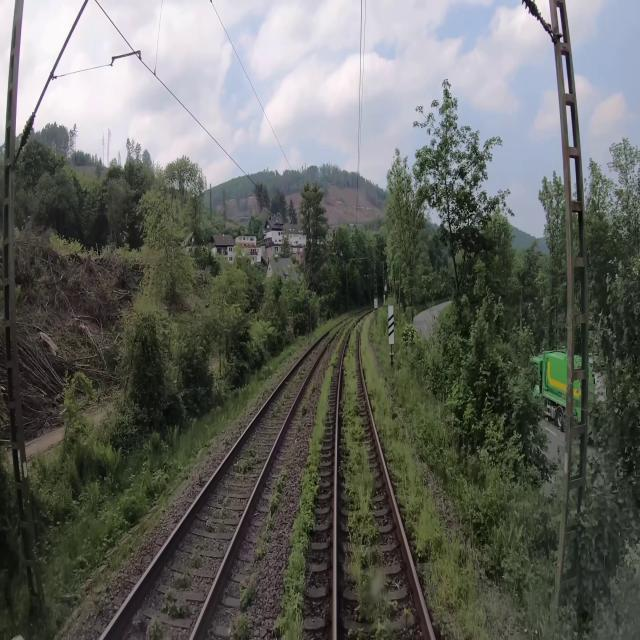Plant: (361, 310, 501, 639), (275, 309, 364, 639), (340, 318, 398, 639), (252, 468, 286, 562), (268, 364, 307, 418), (297, 373, 321, 437), (314, 309, 356, 338), (234, 442, 258, 481), (161, 590, 189, 616), (241, 572, 258, 610), (146, 616, 165, 639), (234, 615, 249, 639), (175, 571, 192, 590), (307, 348, 318, 364)
